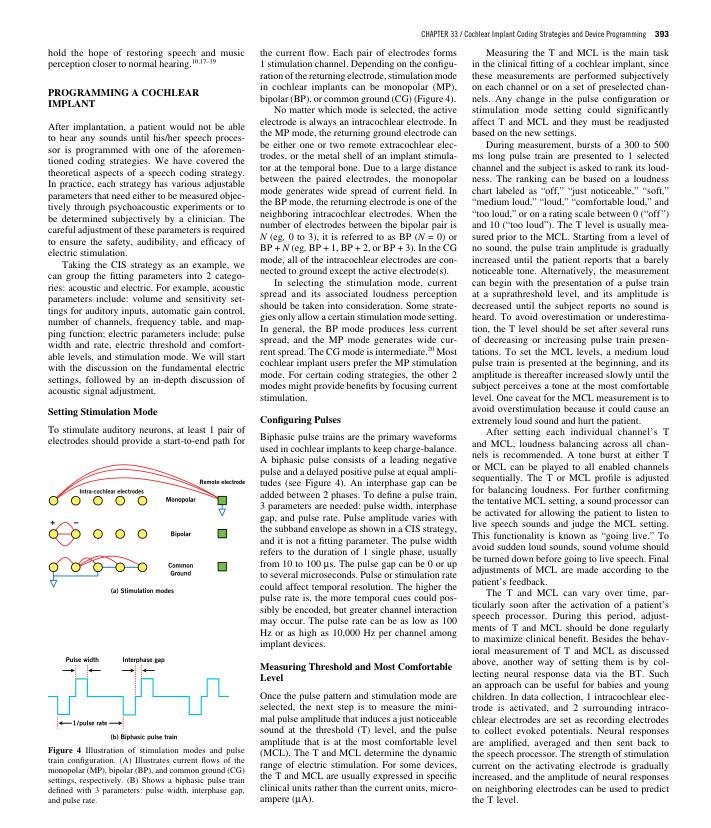caption: (47, 746, 246, 806), (110, 733, 179, 742), (110, 586, 175, 595)
header: (420, 30, 647, 39)
image: (44, 452, 248, 600), (45, 645, 246, 744)
section-heading: (47, 87, 200, 108)
sub-section-heading: (259, 662, 453, 683), (47, 407, 158, 417), (259, 415, 342, 426)
text: (469, 48, 670, 806), (258, 47, 458, 402), (46, 122, 246, 398), (259, 432, 457, 650), (259, 691, 457, 806), (47, 424, 247, 448), (47, 48, 245, 71)
